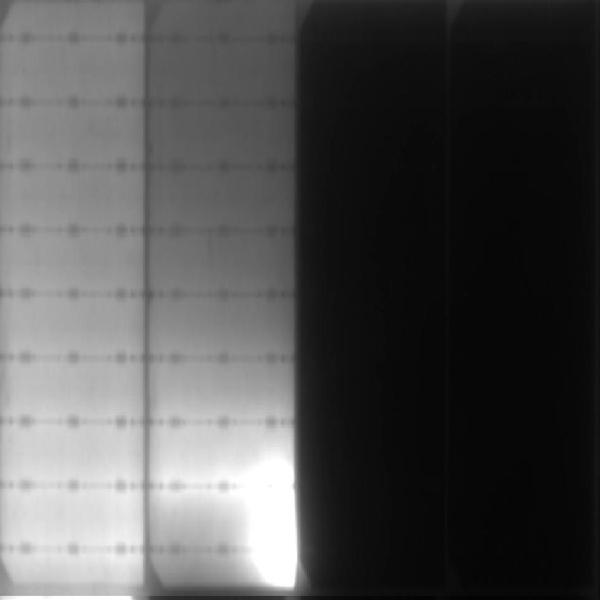hot_spot: (258, 454, 295, 585), (242, 473, 257, 556)
no_electricity: (449, 1, 599, 600), (303, 1, 446, 597)
